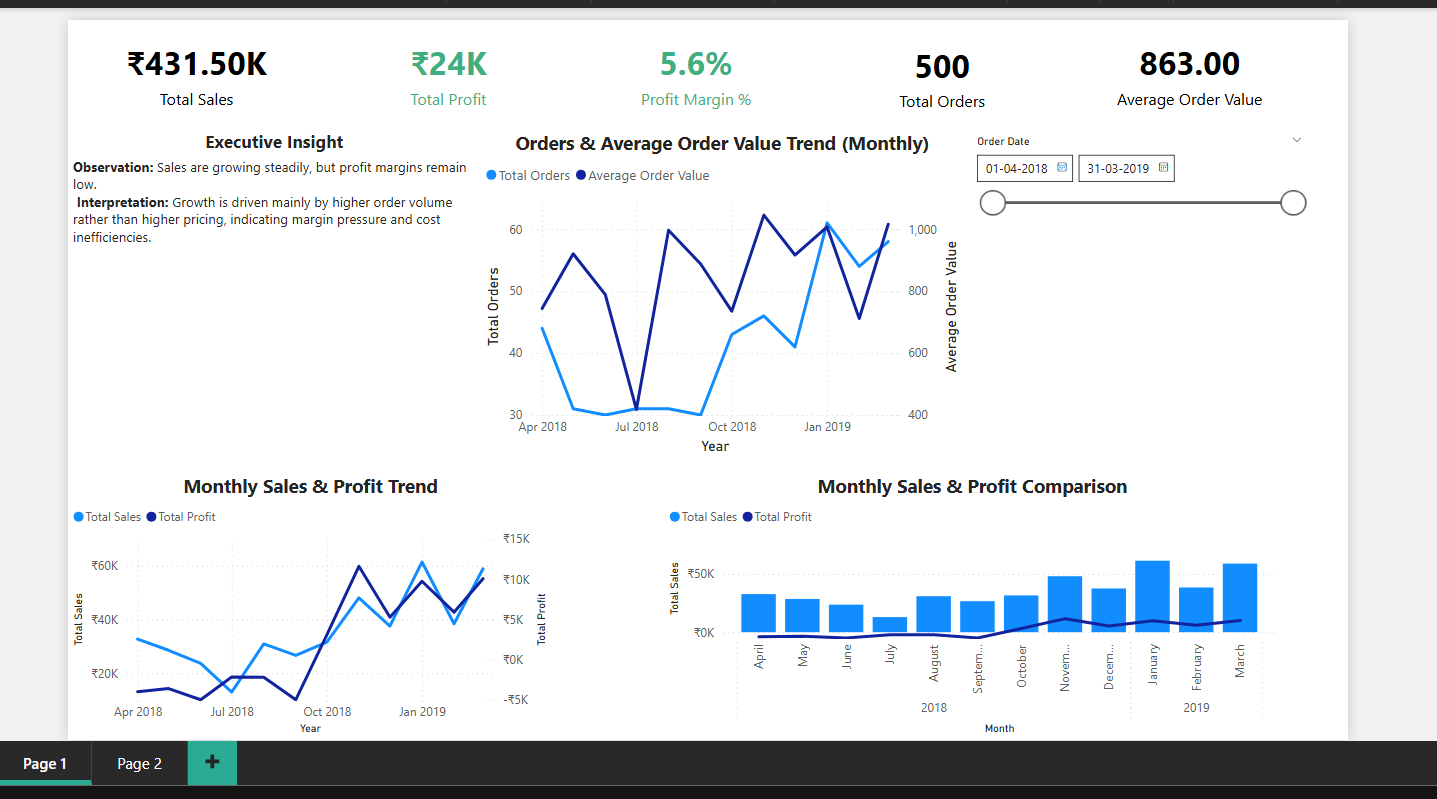

The dashboard page shown, as its layout file describes it:
{"tool":"powerbi","page":{"name":"Page 1","canvas":[1280,720],"ordinal":0},"visuals":[{"type":"card","fields":{"Values":["cleaned_Order Details.Total Sales"]},"box":[33.8,0,190,108.8],"z":0},{"type":"card","fields":{"Values":["cleaned_Order Details.Total Profit"]},"box":[289.7,0,181.2,108.8],"z":1000},{"type":"card","fields":{"Values":["cleaned_List of Orders.Total Orders"]},"box":[784.1,2.5,181.2,108.8],"z":2000},{"type":"card","fields":{"Values":["cleaned_Order Details.Average Order Value"]},"box":[1031.2,0,181.2,108.8],"z":3000},{"type":"slicer","fields":{"Values":["cleaned_List of Orders.Order Date"]},"box":[896.2,110,350,123.8],"z":4000},{"type":"lineChart","title":"Monthly Sales & Profit Trend","fields":{"Y":["cleaned_Order Details.Total Sales"],"Category":["cleaned_List of Orders.Order Month.Variation.Date Hierarchy.Year","cleaned_List of Orders.Order Month.Variation.Date Hierarchy.Quarter","cleaned_List of Orders.Order Month.Variation.Date Hierarchy.Month","cleaned_List of Orders.Order Month.Variation.Date Hierarchy.Day"],"Y2":["cleaned_Order Details.Total Profit"]},"box":[0,452.5,485,267.5],"z":5000},{"type":"lineClusteredColumnComboChart","title":"Monthly Sales & Profit Comparison","fields":{"Y":["cleaned_Order Details.Total Sales"],"Y2":["cleaned_Order Details.Total Profit"],"Category":["cleaned_List of Orders.Order Month.Variation.Date Hierarchy.Year","cleaned_List of Orders.Order Month.Variation.Date Hierarchy.Month"]},"box":[596.2,452.5,616.2,267.5],"z":6000},{"type":"card","fields":{"Values":["cleaned_List of Orders.Profit Margin %"]},"box":[536.9,0,181.2,108.8],"z":7000},{"type":"textbox","title":"Executive Insight","box":[0,110,412.5,145],"z":8000},{"type":"lineChart","title":"Orders & Average Order Value Trend (Monthly)","fields":{"Y":["cleaned_List of Orders.Total Orders"],"Category":["cleaned_List of Orders.Order Month.Variation.Date Hierarchy.Year","cleaned_List of Orders.Order Month.Variation.Date Hierarchy.Month"],"Y2":["cleaned_Order Details.Average Order Value"]},"box":[412.5,110,483.8,328.8],"z":9000}]}

Visuals, with their boxes on the page's 1280x720 design canvas (x1, y1, x2, y2). These are canvas units, not pixel positions in the 1437x799 screenshot, which may show the page scaled, cropped or inside an application window:
card - cleaned_Order Details.Total Sales: (left=34, top=0, right=224, bottom=109)
card - cleaned_Order Details.Total Profit: (left=290, top=0, right=471, bottom=109)
card - cleaned_List of Orders.Total Orders: (left=784, top=2, right=965, bottom=111)
card - cleaned_Order Details.Average Order Value: (left=1031, top=0, right=1212, bottom=109)
slicer - cleaned_List of Orders.Order Date: (left=896, top=110, right=1246, bottom=234)
"Monthly Sales & Profit Trend" lineChart: (left=0, top=452, right=485, bottom=720)
"Monthly Sales & Profit Comparison" lineClusteredColumnComboChart: (left=596, top=452, right=1212, bottom=720)
card - cleaned_List of Orders.Profit Margin %: (left=537, top=0, right=718, bottom=109)
"Executive Insight" textbox: (left=0, top=110, right=412, bottom=255)
"Orders & Average Order Value Trend (Monthly)" lineChart: (left=412, top=110, right=896, bottom=439)
